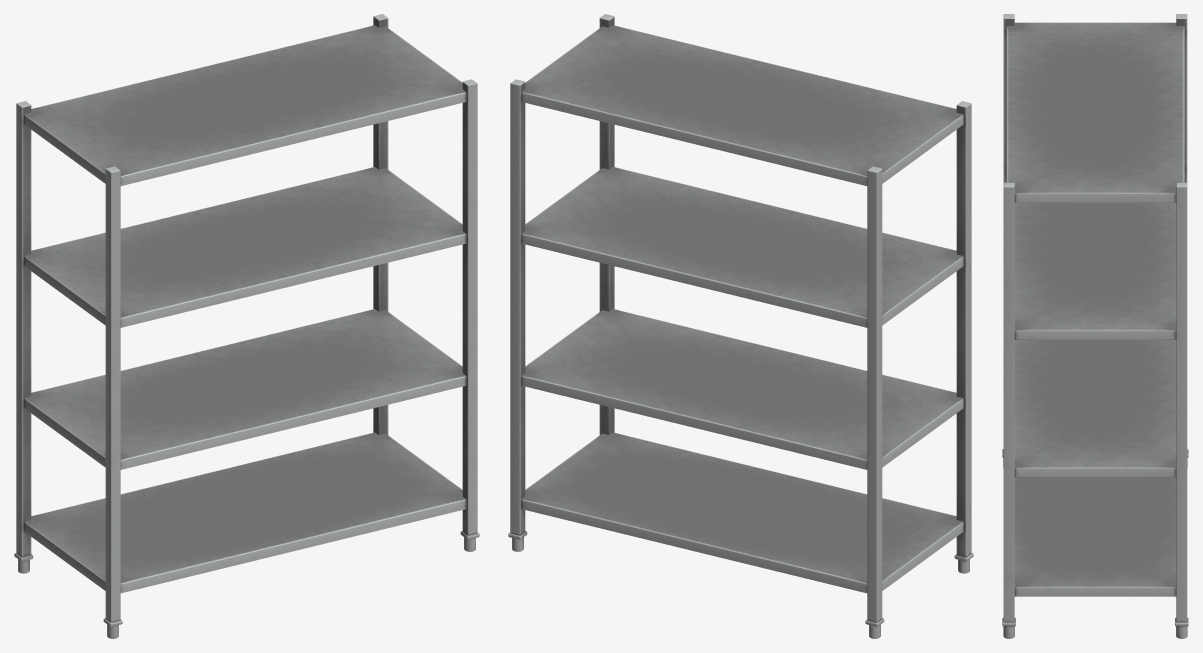
The model's file is KitchenShelf_02 1.FBX.
3 renders of one model, left to right at view 1: azimuth 30°, elevation 25°; view 2: azimuth 150°, elevation 25°; view 3: azimuth 270°, elevation 25°, orthographic. The views are drawn at different scales.
Visible parts, largest first — view 1: KitchenShelf_02; view 2: KitchenShelf_02; view 3: KitchenShelf_02.
Boxes of the visible parts, <box> form: KitchenShelf_02: <box>14,14,479,638</box>; KitchenShelf_02: <box>508,14,973,638</box>; KitchenShelf_02: <box>1002,14,1188,638</box>.
Bounding box in the file's own units: 110 × 133 × 49.57.
1 material, 1 textured.
